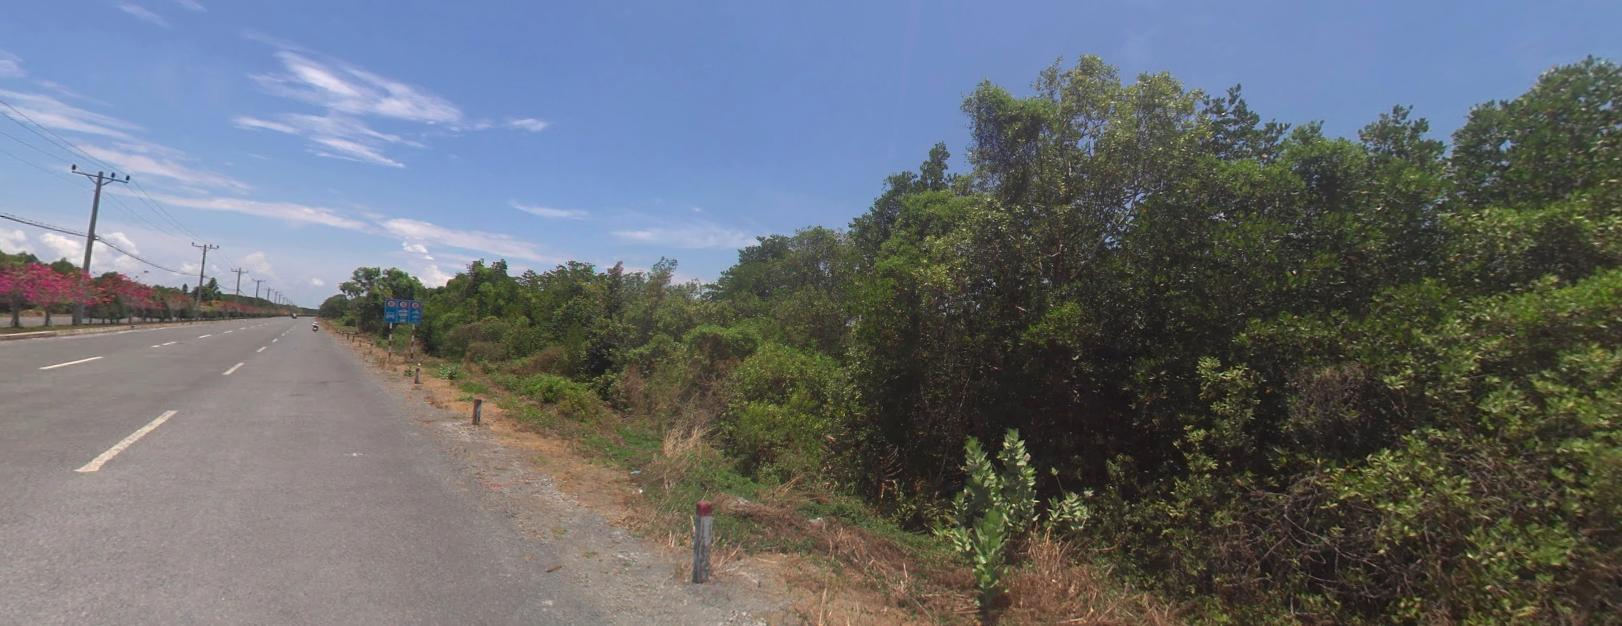Gioi han toc do: (410, 299, 420, 306), (387, 298, 395, 305), (398, 299, 405, 306)
